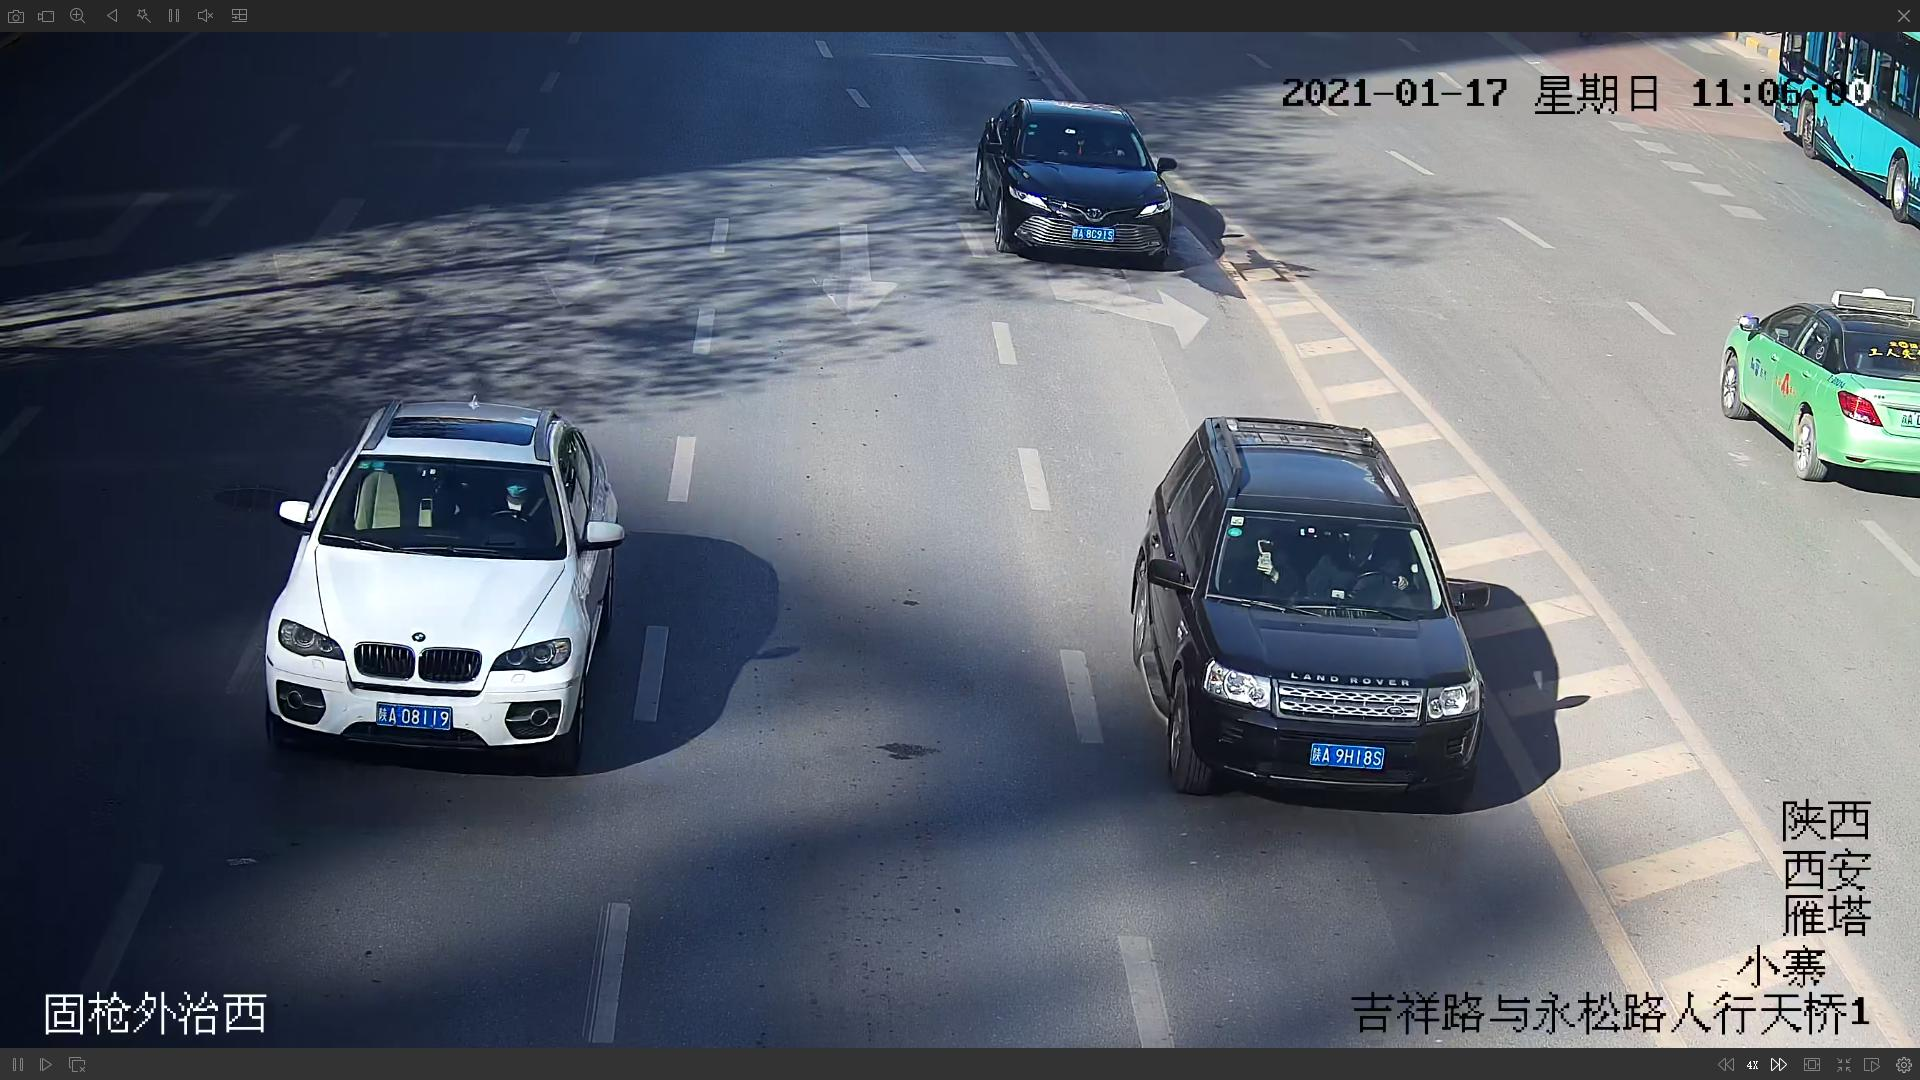black: (1124, 414, 1484, 811), (975, 102, 1178, 268)
white: (262, 396, 620, 758)
